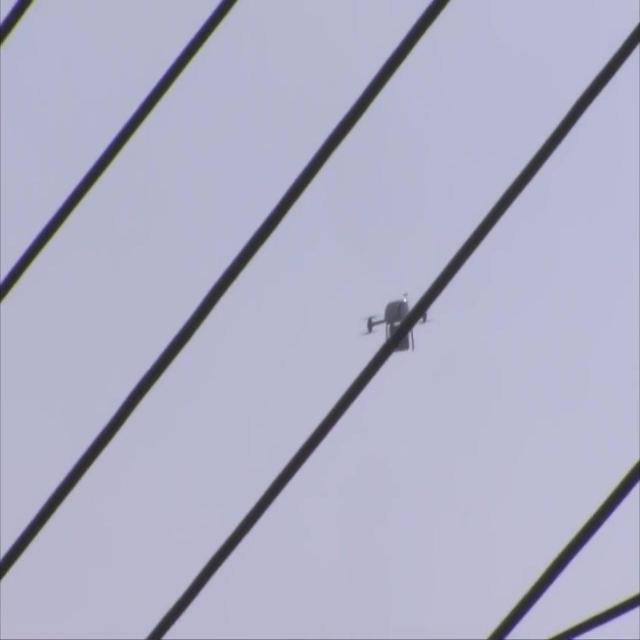UAV: (363, 292, 435, 352)
